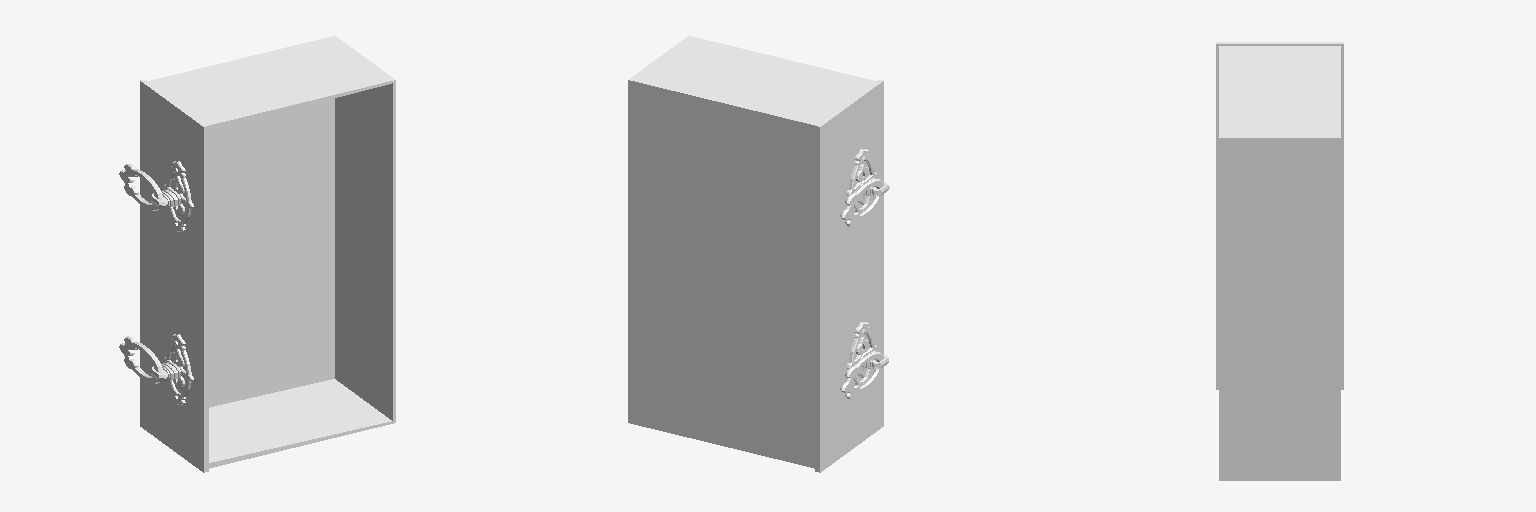
Rendered from f_Drawer.obj.
3 views of the same model, side by side, from view 1: azimuth 30°, elevation 25°; view 2: azimuth 150°, elevation 25°; view 3: azimuth 270°, elevation 25° (orthographic).
Visible parts, largest first — view 1: default; view 2: default; view 3: default.
Part boxes in pixels (left/top/right/bottom): default: left=119, top=36, right=395, bottom=472; default: left=628, top=36, right=889, bottom=472; default: left=1216, top=42, right=1343, bottom=480.
Size of the model in its own units: 4.03 by 6.08 by 2.04.